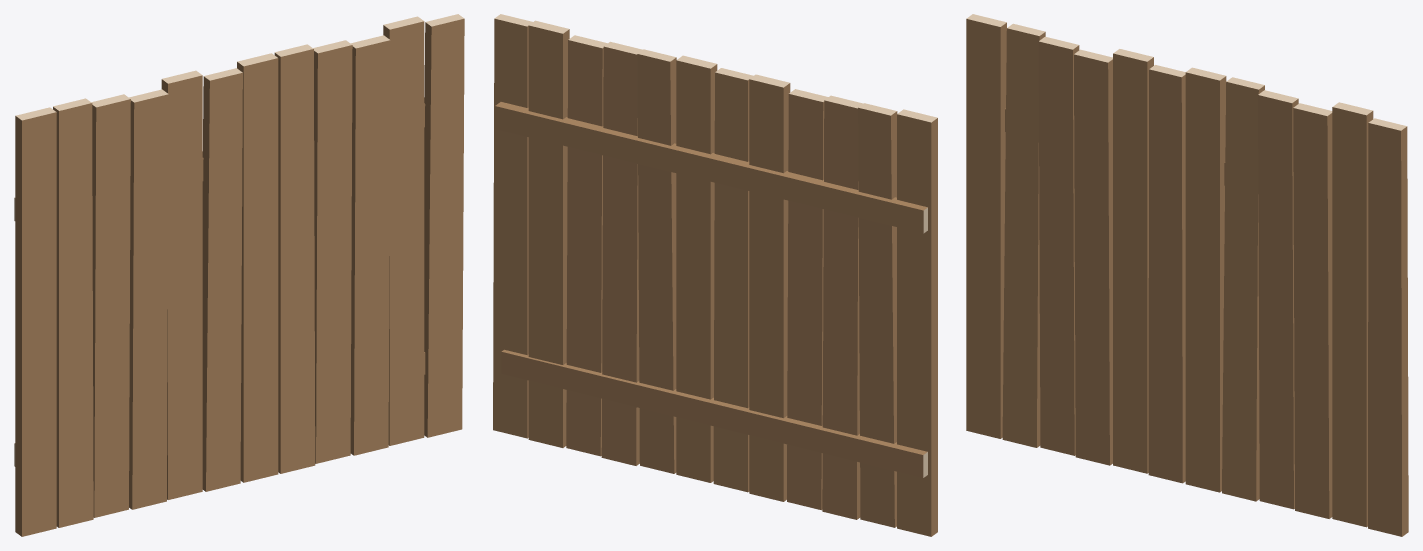
File: SM_garden_fence.fbx
3 views of the same model, side by side, from view 1: azimuth 30°, elevation 25°; view 2: azimuth 150°, elevation 25°; view 3: azimuth 330°, elevation 25° (orthographic).
Parts seen in each view (by area): view 1: Box055; view 2: Box055; view 3: Box055.
Boxes of the visible parts, <box> form: Box055: <box>14,14,464,536</box>; Box055: <box>493,14,937,536</box>; Box055: <box>966,14,1408,536</box>.
Size of the model in its own units: 90.08 by 81.28 by 4.55.
